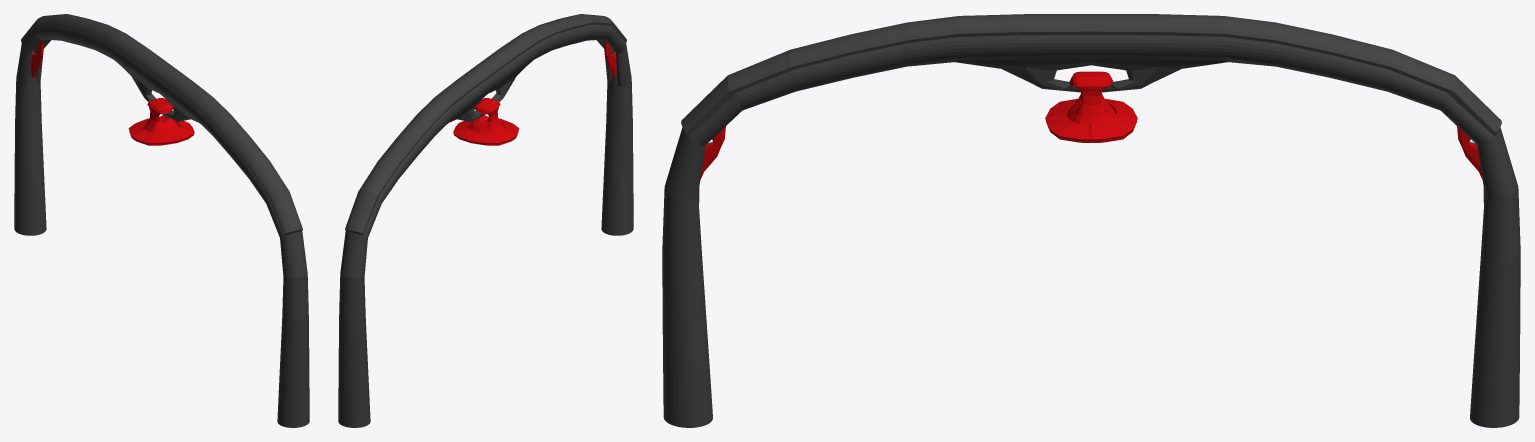
The model's file is PetiteHarchePasEneiger.fbx.
3 renders of one model, left to right at view 1: azimuth 30°, elevation 25°; view 2: azimuth 150°, elevation 25°; view 3: azimuth 270°, elevation 25°, orthographic. The views are drawn at different scales.
Parts seen in each view (by area): view 1: Cylinder; view 2: Cylinder; view 3: Cylinder.
Boxes of the visible parts, bbox=[...] form: Cylinder: bbox=[14, 14, 309, 427]; Cylinder: bbox=[338, 14, 633, 427]; Cylinder: bbox=[662, 14, 1520, 427].
Size of the model in its own units: 125 by 555 by 1073.
